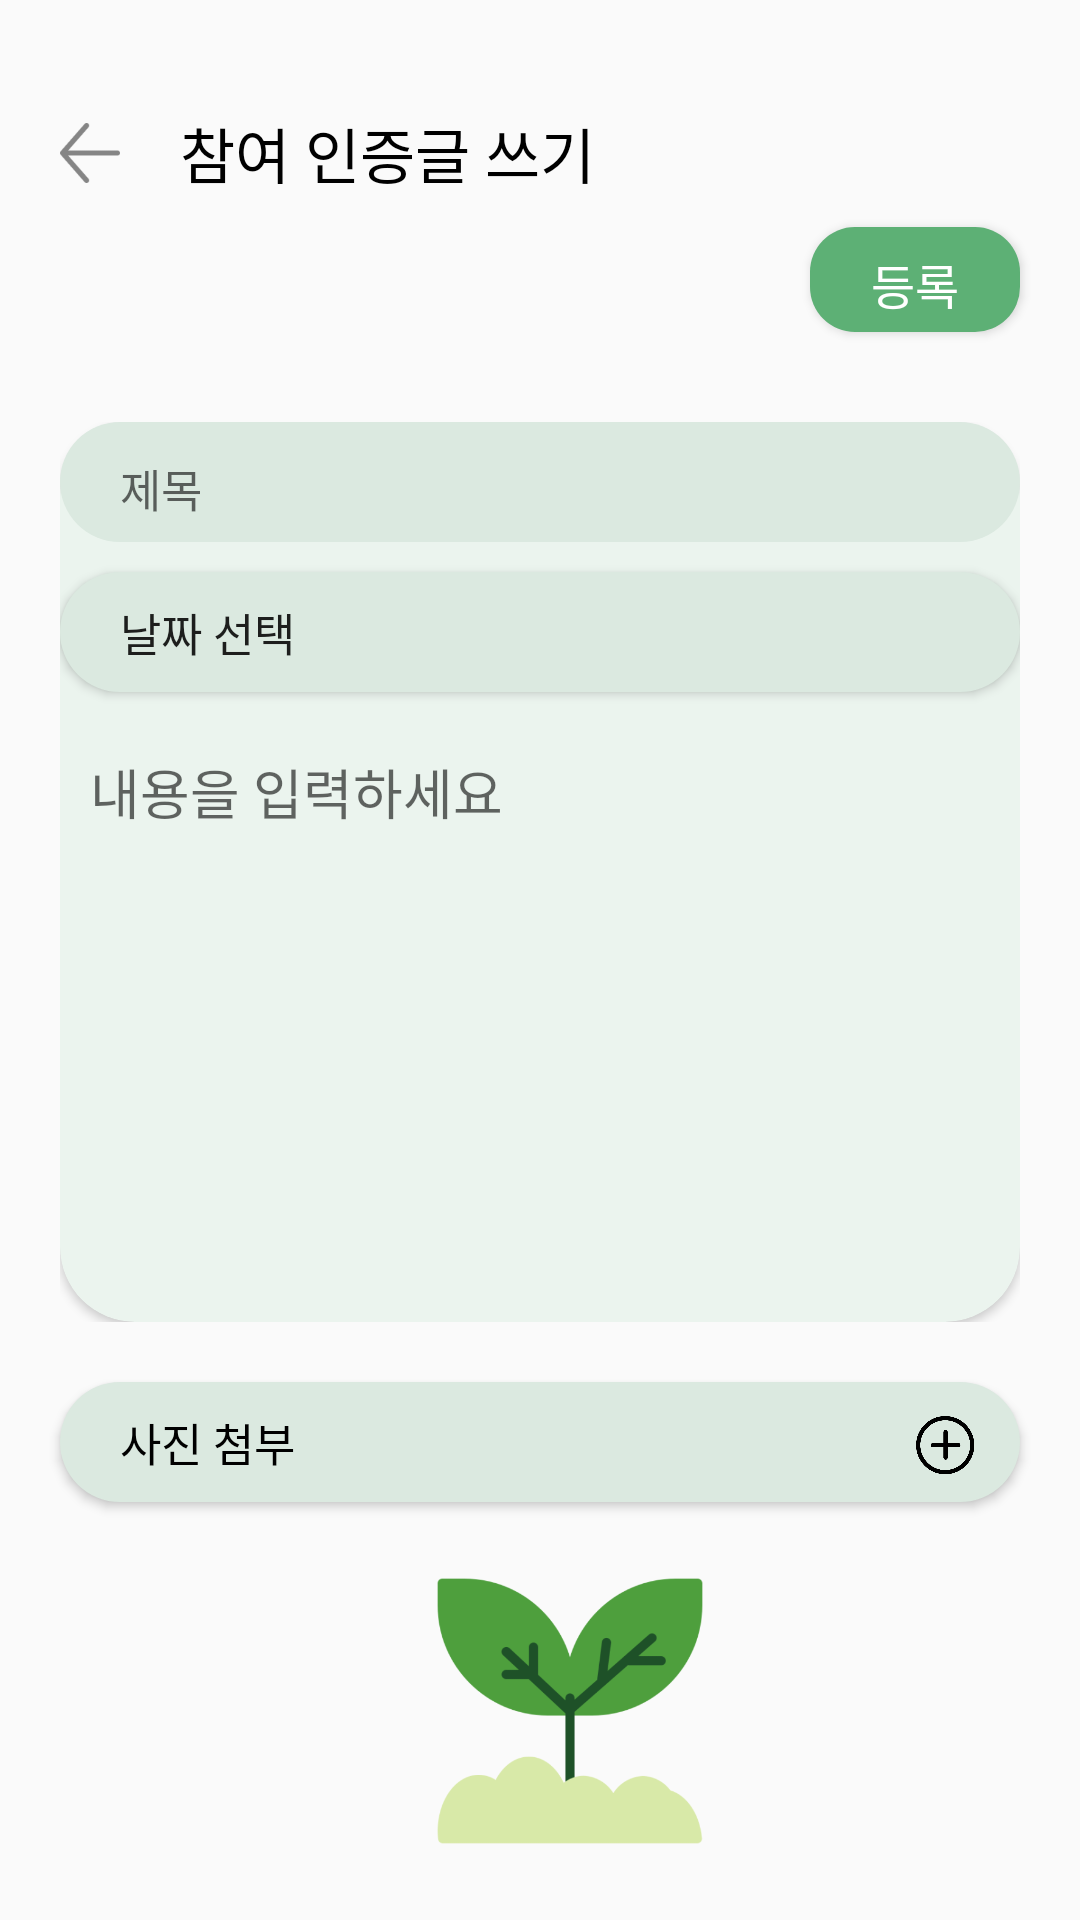

Where icons sit on this 1080px×1920px app screen, as bbox(x1, y1, x2, y2):
back: bbox(60, 123, 120, 183)
